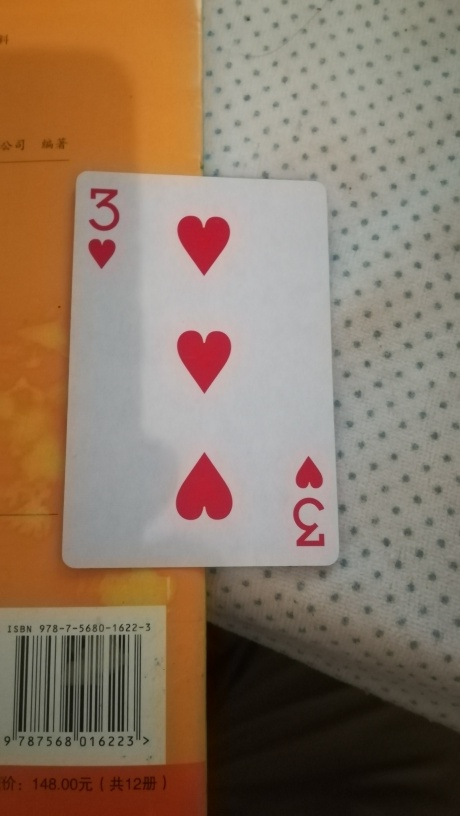hx 3: (62, 173, 345, 571)
